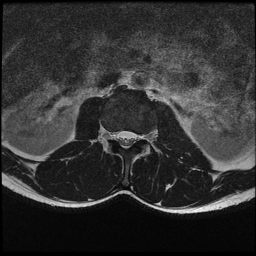CCS_normal: (122, 123, 129, 155)
LFS_normal: (137, 125, 145, 148)
LLS_normal: (129, 123, 137, 151)
RFS_normal: (106, 122, 114, 148)
RLS_normal: (114, 124, 122, 151)
